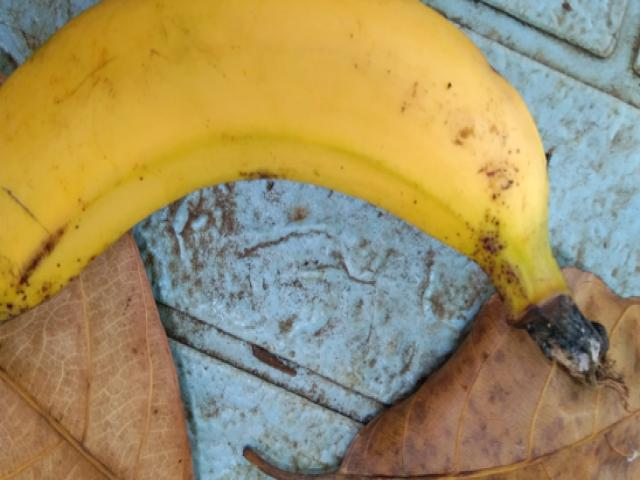freshripe: (0, 0, 570, 367)
